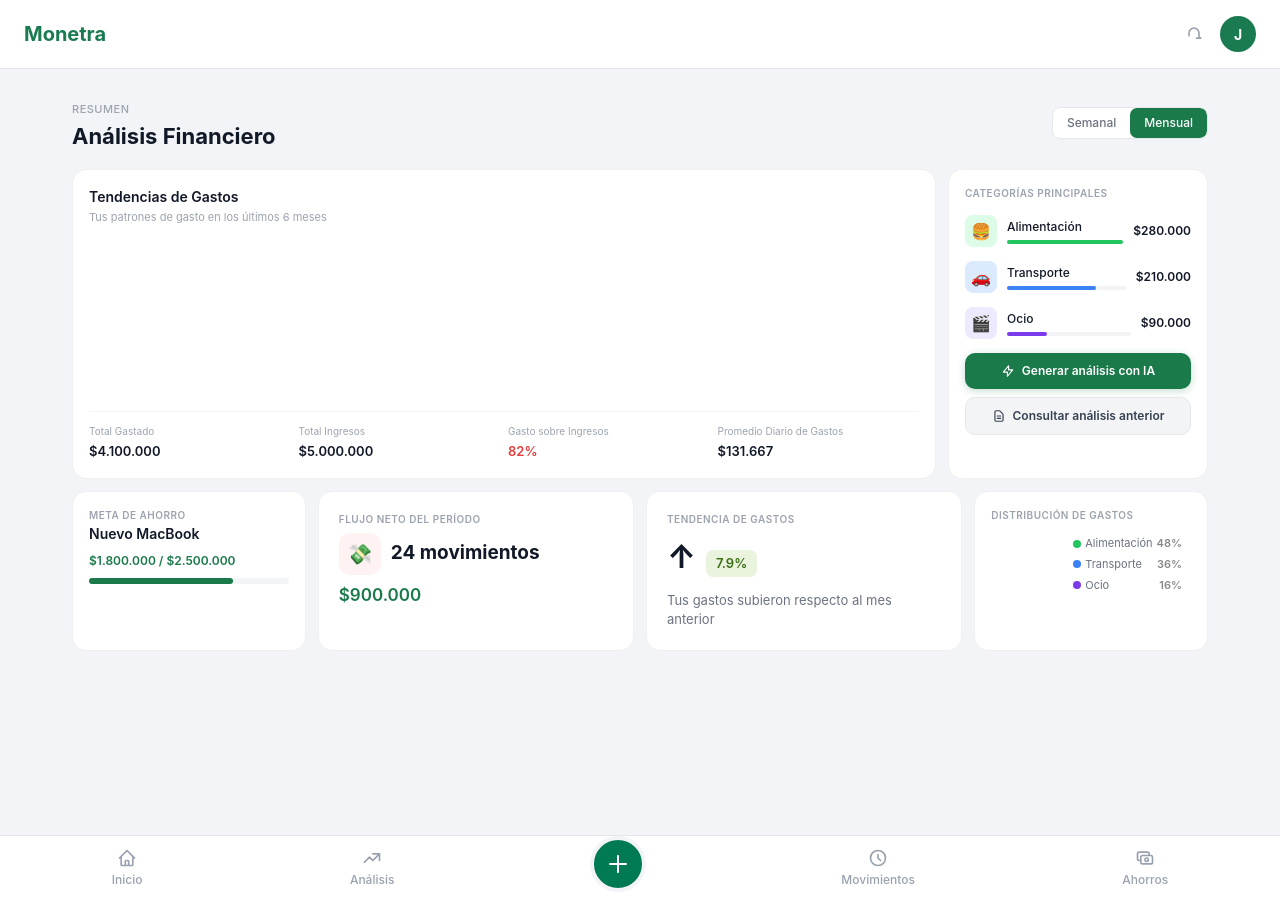
it: Pruebas en <AnalisisView /> › debe actualizar el subtítulo de la gráfica al cambiar a Semanal
Expected: the text "Tus patrones de gasto en los últimos 6 meses" is shown, top-left (89, 208), bottom-right (327, 225)
Click the button "Semanal".
click(1092, 123)  # box top-left (1053, 108), bottom-right (1130, 138)
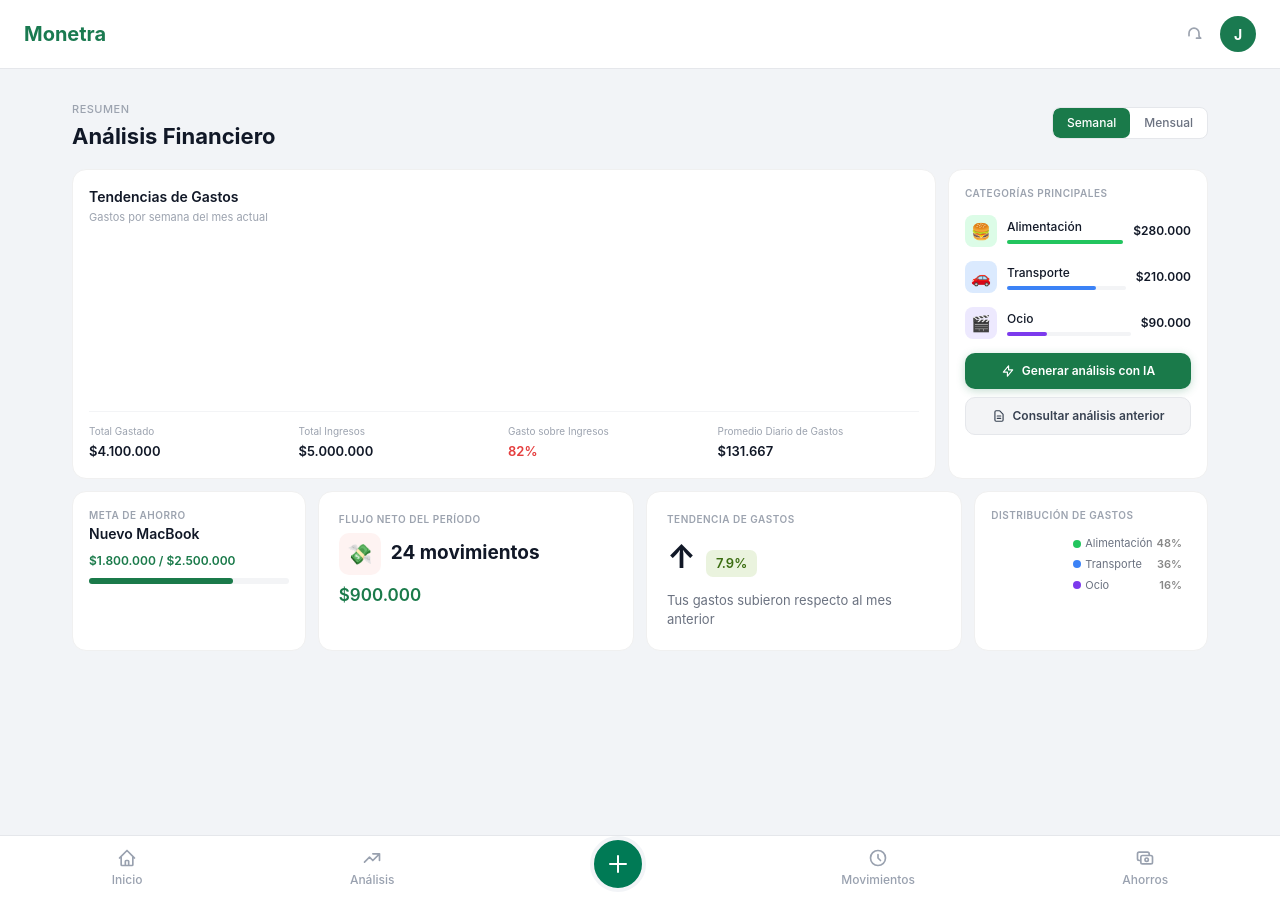
Now the text "Gastos por semana del mes actual" is shown, box top-left (89, 208), bottom-right (268, 225)
